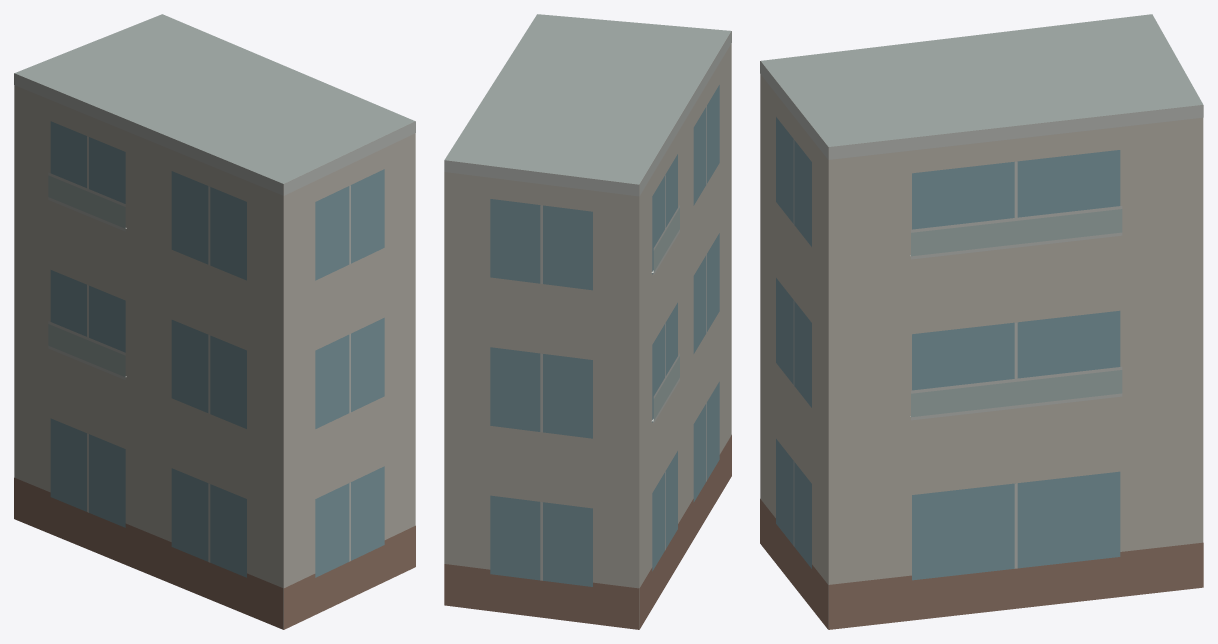
The model's file is survey-upis-32521153.glb.
3 views of the same model, side by side, from view 1: azimuth 30°, elevation 25°; view 2: azimuth 150°, elevation 25°; view 3: azimuth 270°, elevation 25° (orthographic). The views are drawn at different scales.
Parts seen in each view (by area): view 1: survey-upis-32521153.tmp; view 2: survey-upis-32521153.tmp; view 3: survey-upis-32521153.tmp.
Boxes of the visible parts, x1=… form: survey-upis-32521153.tmp: x1=14, y1=14, x2=415, y2=629; survey-upis-32521153.tmp: x1=444, y1=14, x2=731, y2=629; survey-upis-32521153.tmp: x1=760, y1=14, x2=1203, y2=629.
Bounding box in the file's own units: 5.42 × 9.15 × 7.62.
